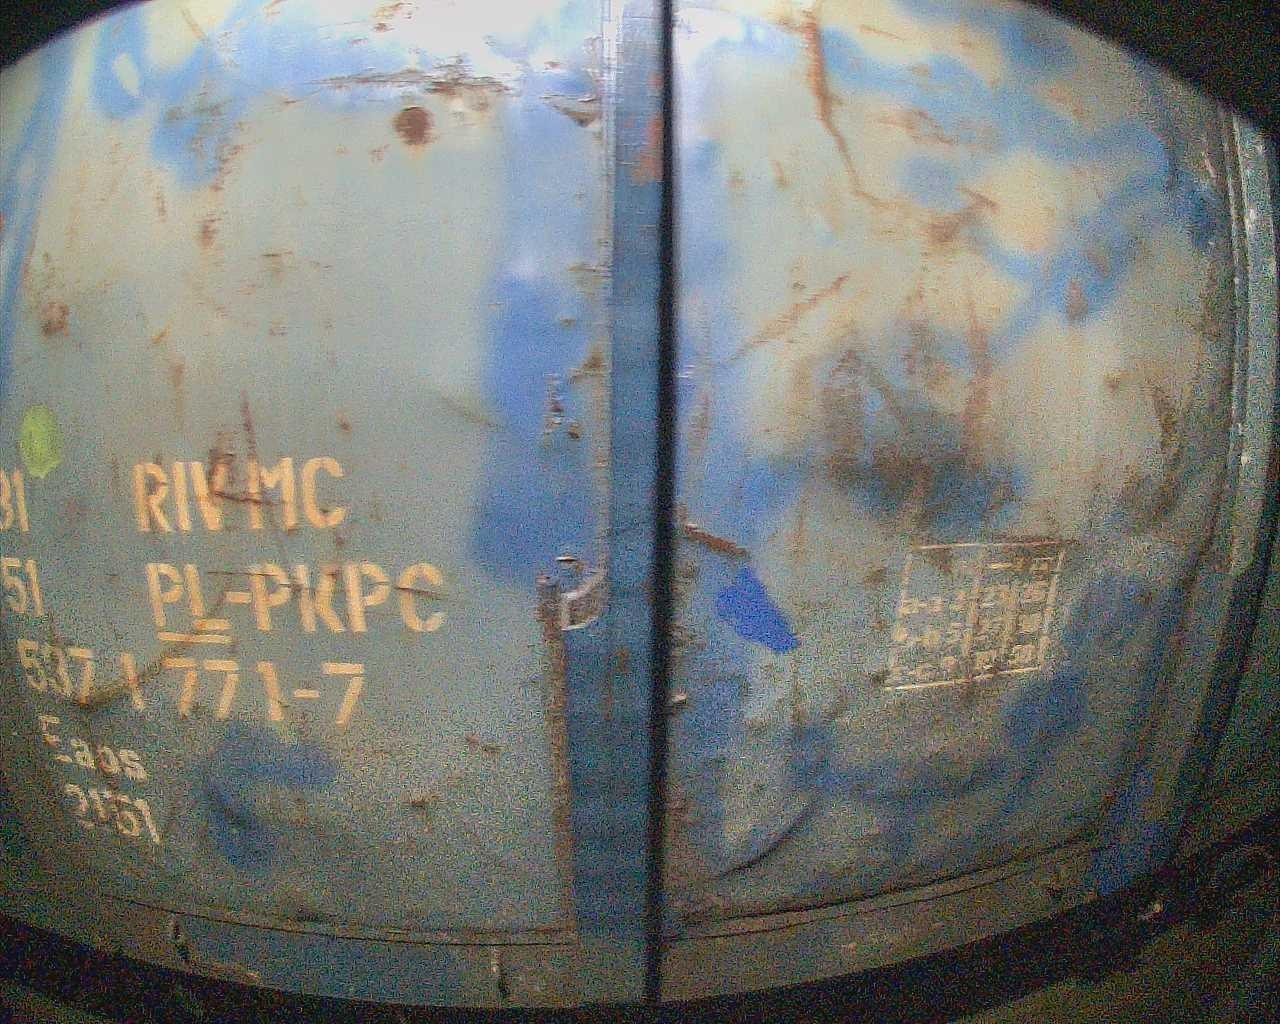UIC: (1, 453, 453, 845)
